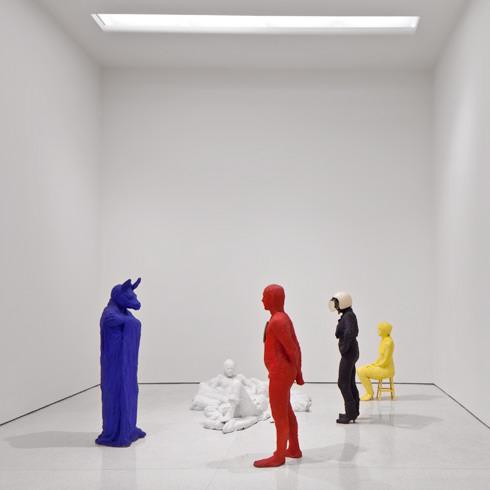person: (251, 282, 306, 471), (330, 291, 361, 427), (360, 322, 399, 402), (215, 357, 250, 415)
